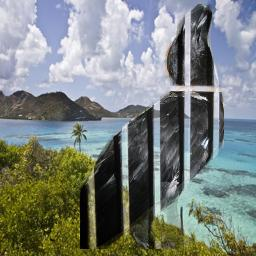Crow: (80, 4, 224, 249)
